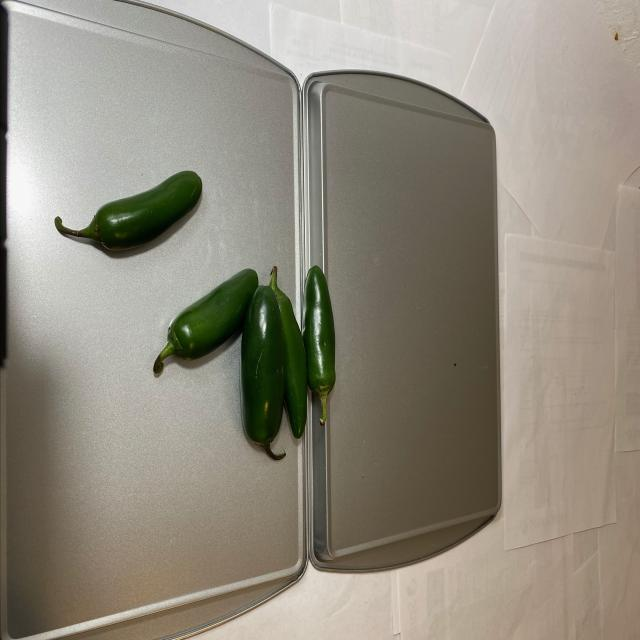chilli: (51, 174, 337, 468)
